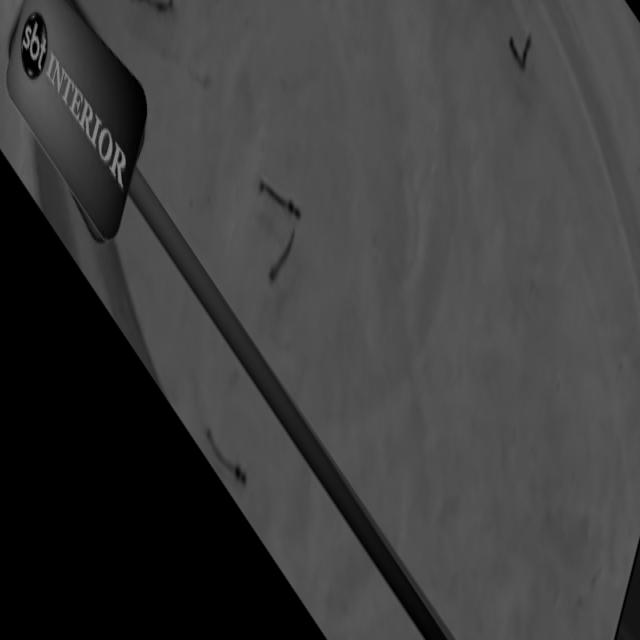larvas: (200, 425, 254, 493), (265, 227, 297, 283), (262, 178, 302, 217), (510, 33, 535, 67), (128, 0, 176, 12)
